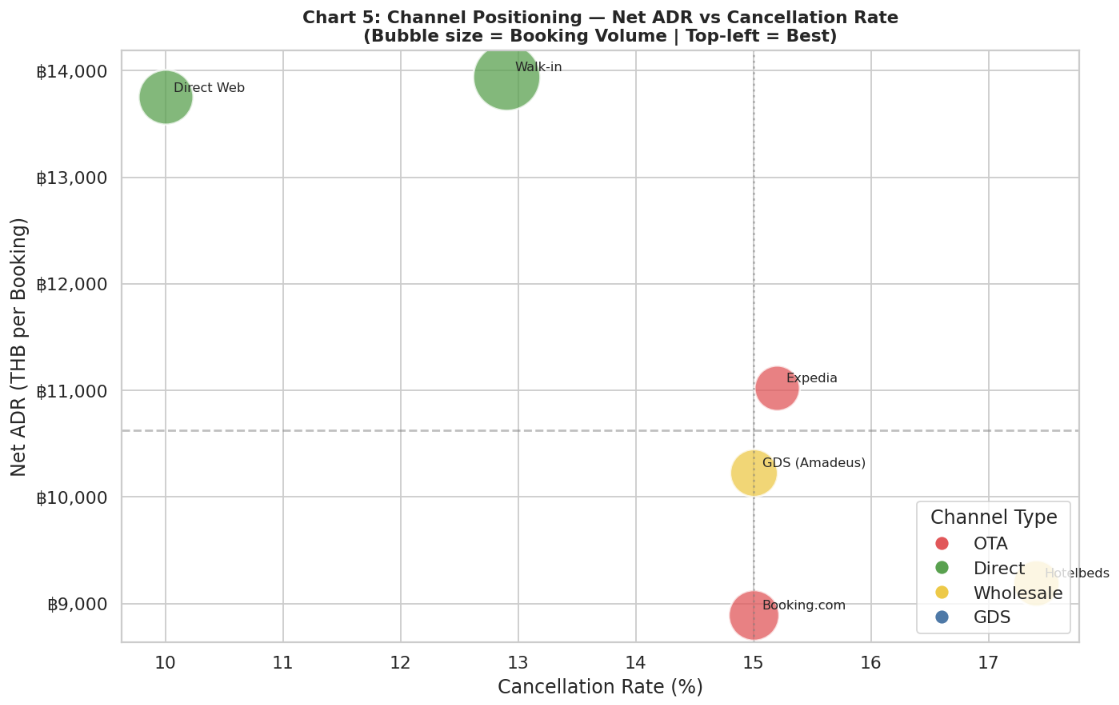

This screenshot's page, from the dashboard's own definition file:
{"tool":"powerbi","page":{"name":"Page 5","canvas":[1280,720],"ordinal":4},"visuals":[{"type":"scatterChart","fields":{"Category":["dim_channels (1).channel_name"],"X":["fact_bookings (1).Cancel Rate"],"Y":["fact_bookings (1).Net ADR"],"Size":["fact_bookings (1).Bookings Count"],"Series":["dim_channels (1).channel_type"]},"box":[147.2,51.4,1063.7,612.4],"z":0}]}

Visuals, with their boxes on the page's 1280x720 design canvas (x1, y1, x2, y2). These are canvas units, not pixel positions in the 1119x705 screenshot, which may show the page scaled, cropped or inside an application window:
scatterChart - dim_channels (1).channel_name x fact_bookings (1).Cancel Rate: <region>147, 51, 1211, 664</region>
